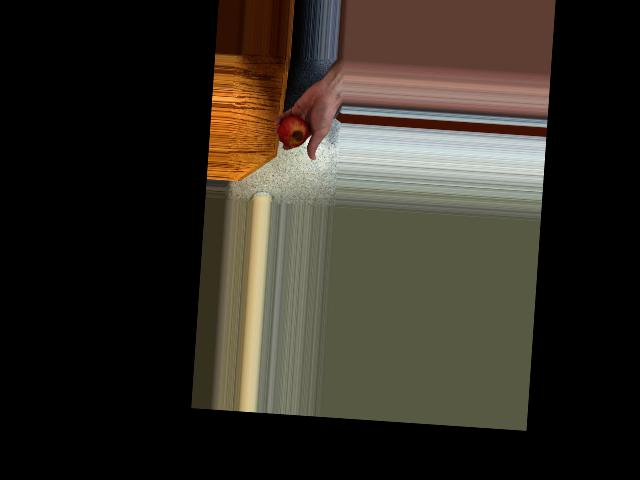apple: (275, 109, 313, 154)
